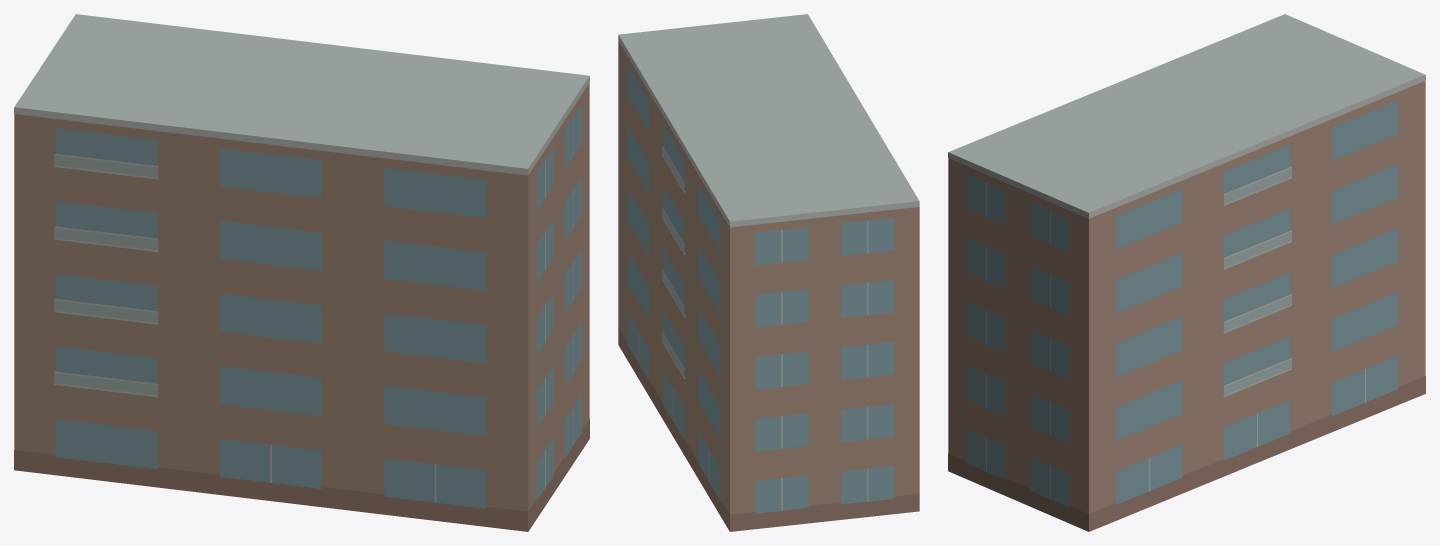
File: survey-upis-32641846.glb
The picture shows the model from 3 angles, left to right: view 1: azimuth 30°, elevation 25°; view 2: azimuth 150°, elevation 25°; view 3: azimuth 270°, elevation 25°; orthographic projection. The views are drawn at different scales.
Visible parts, largest first — view 1: survey-upis-32641846.tmp; view 2: survey-upis-32641846.tmp; view 3: survey-upis-32641846.tmp.
Boxes of the visible parts, x1,y1,x2,y2 form: survey-upis-32641846.tmp: [14, 14, 589, 531]; survey-upis-32641846.tmp: [618, 14, 919, 531]; survey-upis-32641846.tmp: [948, 14, 1425, 531].
Bounding box in the file's own units: 17.69 × 13.22 × 17.95.
